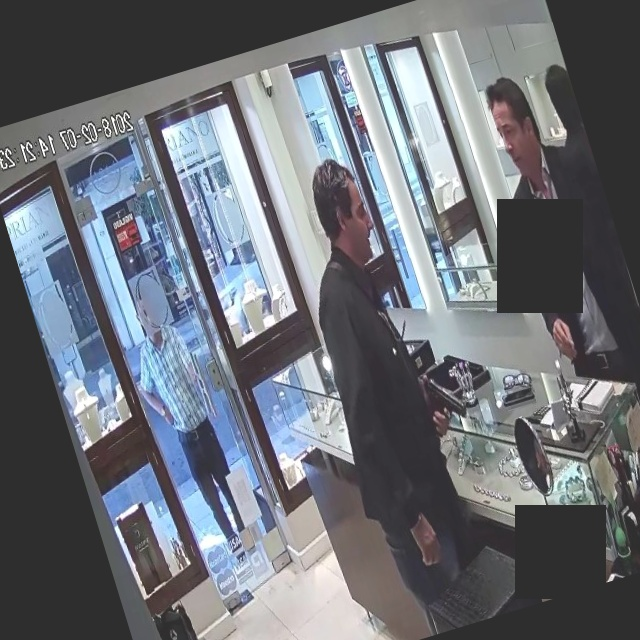gun: (410, 345, 480, 451)
